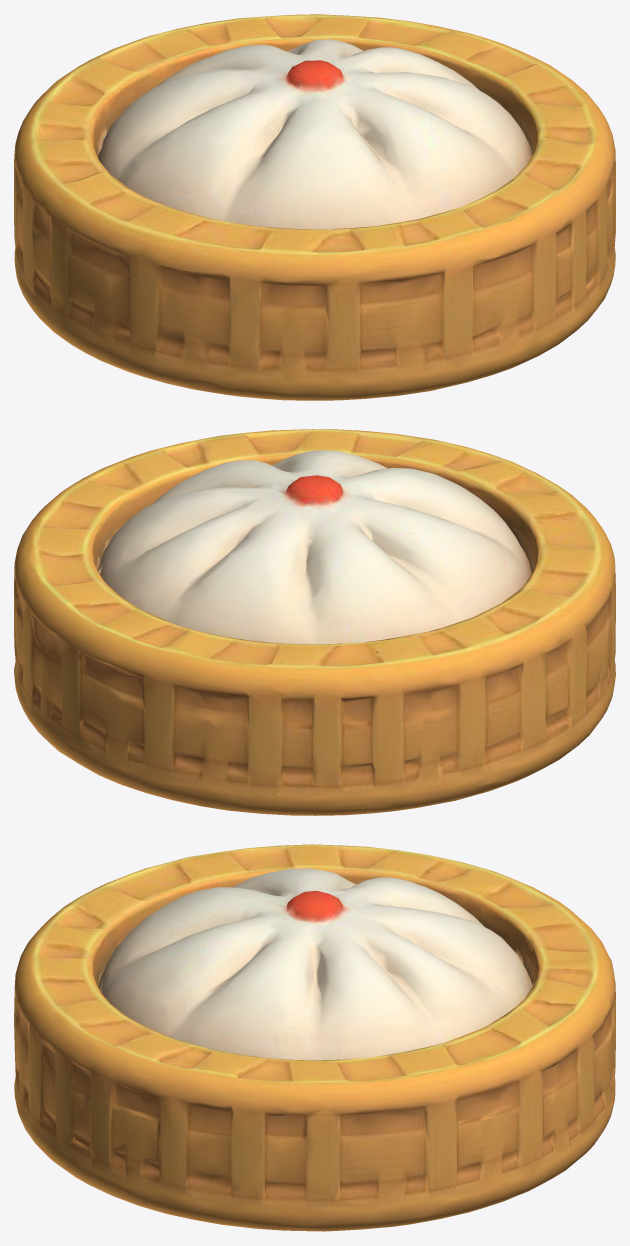
File: puck-bao.glb
3 views of the same model, one above another, from view 1: azimuth 30°, elevation 25°; view 2: azimuth 150°, elevation 25°; view 3: azimuth 270°, elevation 25° (orthographic).
Visible parts, largest first — view 1: tripo_node_75cd02da-cf58-406e-8646-d2a79e0a8336; view 2: tripo_node_75cd02da-cf58-406e-8646-d2a79e0a8336; view 3: tripo_node_75cd02da-cf58-406e-8646-d2a79e0a8336.
Boxes of the visible parts, x1=… form: tripo_node_75cd02da-cf58-406e-8646-d2a79e0a8336: x1=14, y1=14, x2=615, y2=400; tripo_node_75cd02da-cf58-406e-8646-d2a79e0a8336: x1=14, y1=429, x2=615, y2=815; tripo_node_75cd02da-cf58-406e-8646-d2a79e0a8336: x1=14, y1=844, x2=615, y2=1231.
Size of the model in its own units: 1 by 0.3957 by 0.9984.
1 material, 1 textured.
